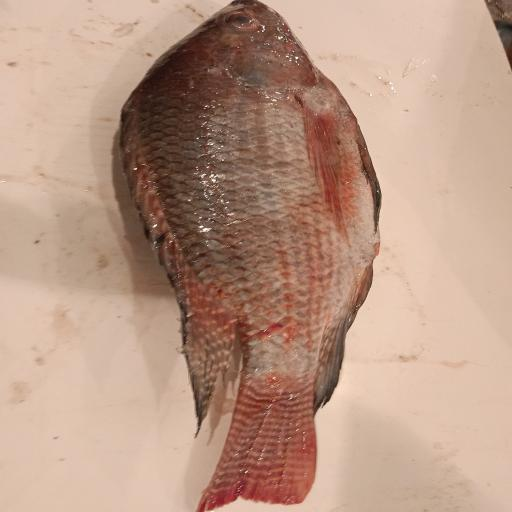Tilapia: (111, 0, 383, 512)
